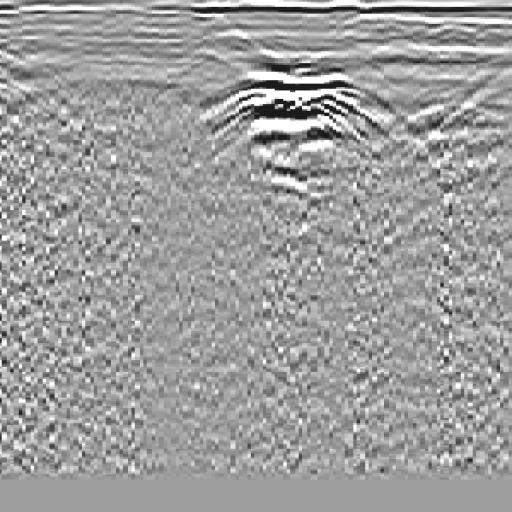metalic: (175, 27, 425, 251)
